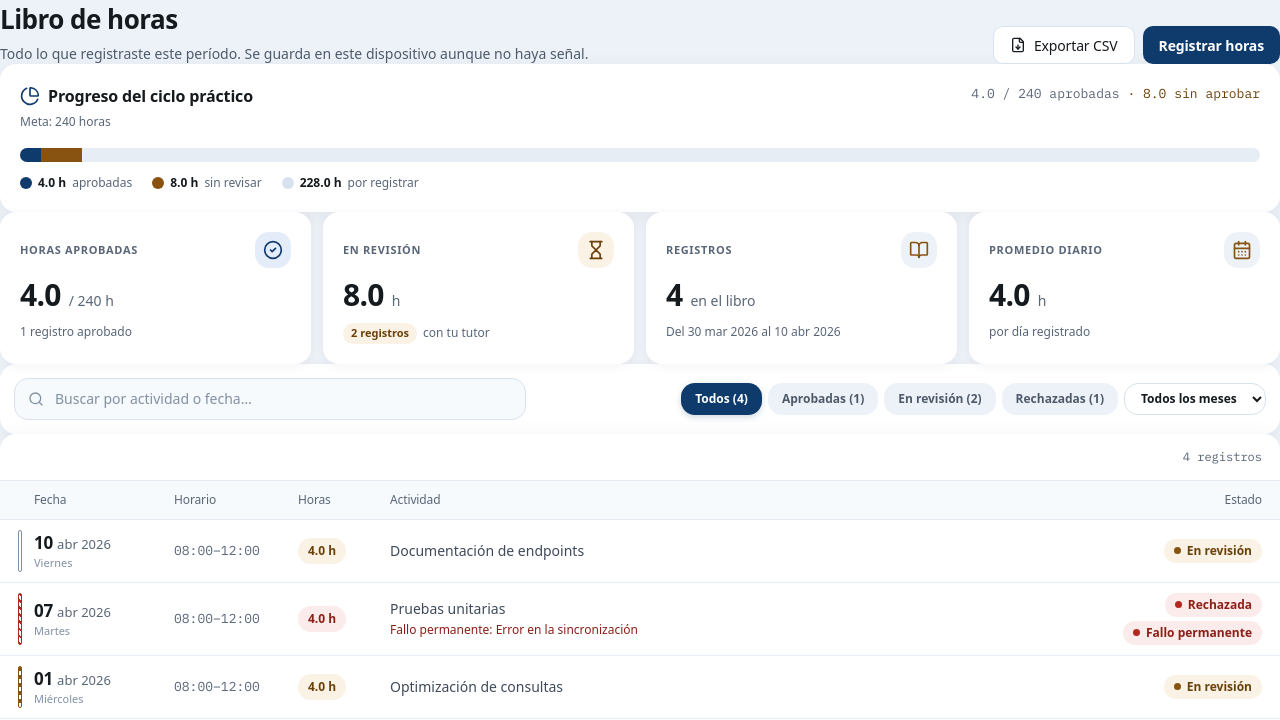
Scenario: libro de horas rediseñado (REDISEÑO-4) › filtros › el selector de mes lista solo los meses con registros y filtra por el elegido
Step 1. Select "Marzo 2026" in the dropdown named "Mes" → point(1195, 398), box [1124, 382, 1266, 414]
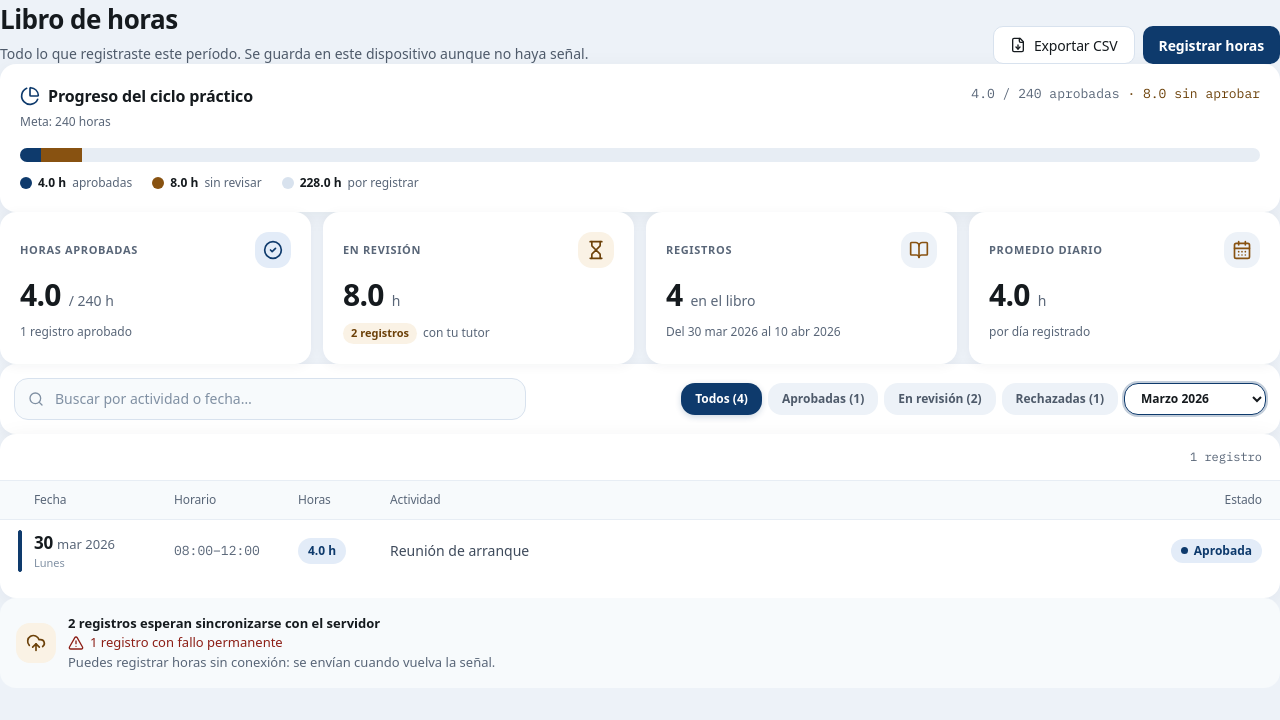
Expected: the text "Reunión de arranque" is shown, [390, 541, 529, 560]
Expected: the text "Pruebas unitarias" is gone
